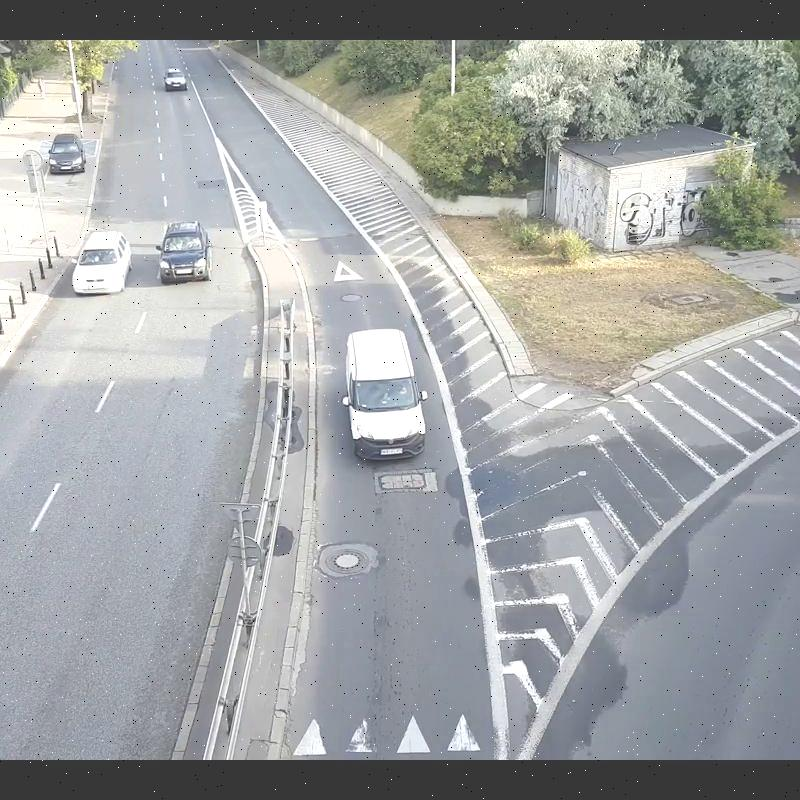car: (341, 329, 427, 465), (73, 229, 127, 303), (159, 221, 219, 280), (45, 132, 90, 173), (165, 67, 190, 92)
